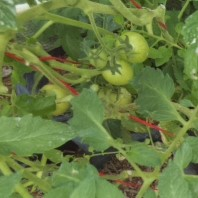tomato: (36, 81, 93, 122), (112, 30, 151, 65), (96, 83, 139, 114), (104, 58, 137, 85), (86, 48, 113, 70)
